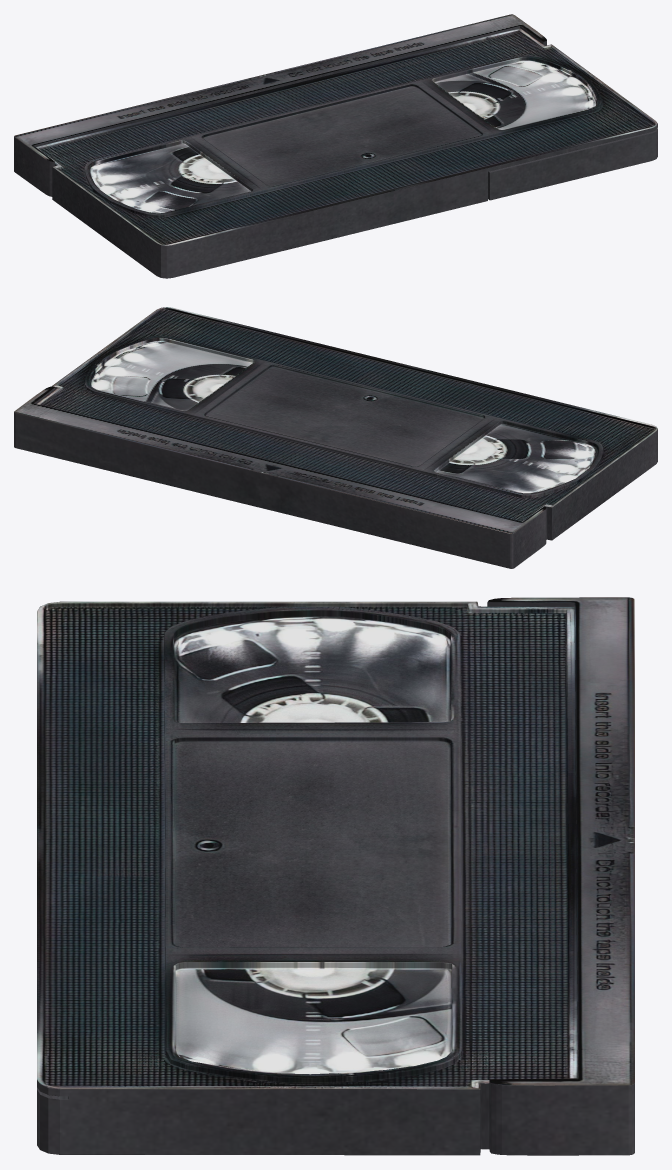
File: vhs.glb
3 views of the same model, one above another, from view 1: azimuth 30°, elevation 25°; view 2: azimuth 150°, elevation 25°; view 3: azimuth 270°, elevation 25° (orthographic). The views are drawn at different scales.
Parts seen in each view (by area): view 1: VHSTape; view 2: VHSTape; view 3: VHSTape.
Part boxes in pixels (x1,y1,x2,y2): VHSTape: (14, 14, 657, 278); VHSTape: (14, 307, 657, 568); VHSTape: (37, 597, 634, 1155).
Bounding box in the file's own units: 0.3262 × 0.0219 × 0.1689.
Materials: 1 (1 with a texture image).
